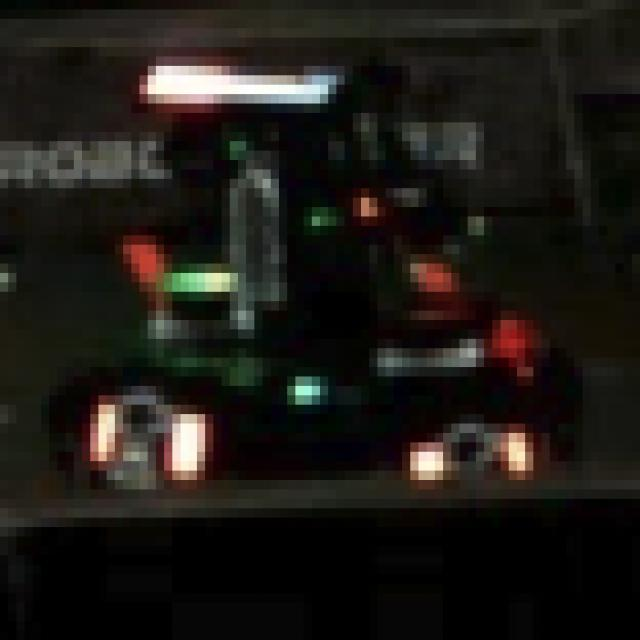Rs: (74, 395, 213, 499)
